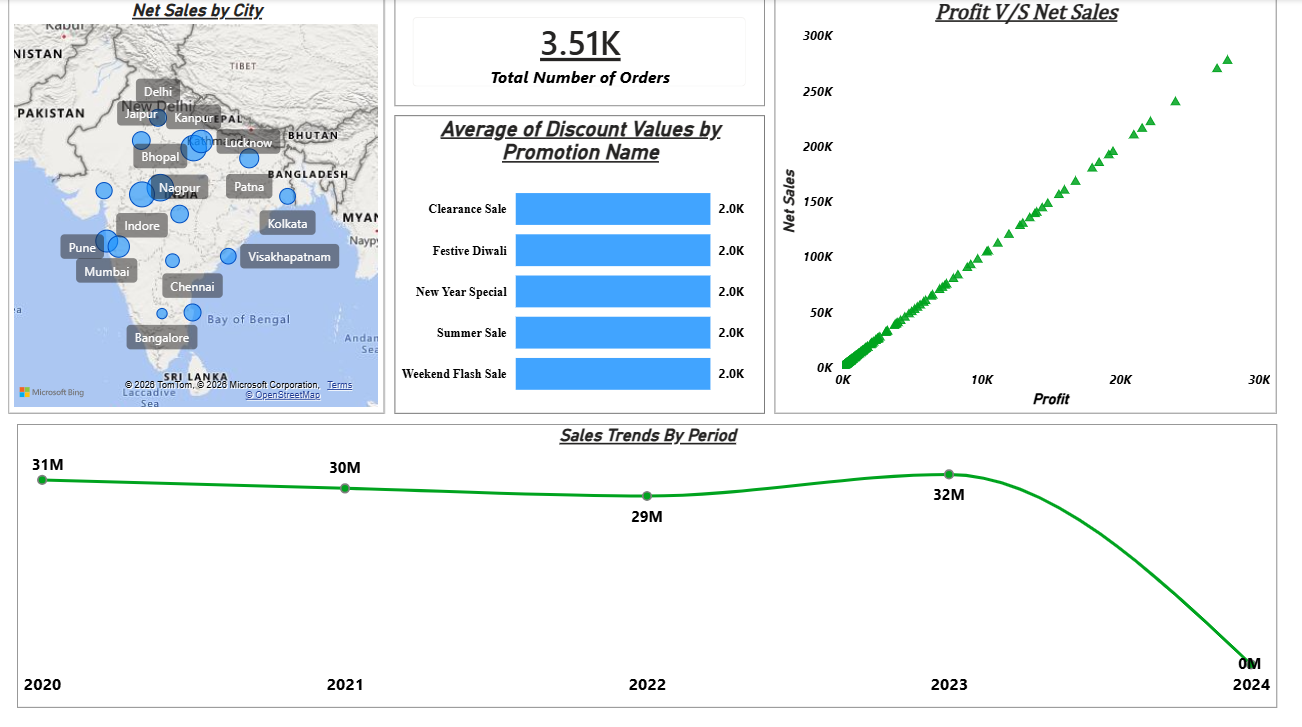

Layout of this report page (visuals, bound fields, positions):
{"tool":"powerbi","page":{"name":"OverView ","canvas":[1280,720],"ordinal":0},"visuals":[{"type":"lineChart","title":"Sales Trends By Period","fields":{"Y":["Sum(Fact table.Net Sales )"],"Category":["Fact table.Date (dd/mm/yyyy).Variation.Date Hierarchy.Year","Fact table.Date (dd/mm/yyyy).Variation.Date Hierarchy.Quarter","Fact table.Date (dd/mm/yyyy).Variation.Date Hierarchy.Month","Fact table.Date (dd/mm/yyyy).Variation.Date Hierarchy.Day"]},"box":[19.6,415.8,1232.6,277.6],"z":0},{"type":"scatterChart","title":"Profit V/S Net Sales ","fields":{"X":["Fact table.Profit"],"Y":["Fact table.Net Sales "]},"box":[761.1,0,491.1,405.6],"z":1000},{"type":"barChart","fields":{"Category":["Dim Promotion.Promotion Name"],"Y":["Avg(Fact table.Discount Values)"]},"box":[388.9,113.3,362.2,292.2],"z":2000},{"type":"map","fields":{"Category":["Dim Customers.City"],"Size":["Sum(Fact table.Net Sales )"]},"box":[11.1,0,367.8,405.6],"z":3000},{"type":"cardVisual","fields":{"Data":["CountNonNull(Fact table.Order Id)"]},"box":[388.9,0,362.2,104.4],"z":4000}]}

Visuals, with their boxes in screenshot pixels (x1, y1, x2, y2), scaled from the page's 1280x720 canvas onto the 1302x727 screenshot:
"Sales Trends By Period" lineChart: Rect(20, 420, 1274, 700)
"Profit V/S Net Sales " scatterChart: Rect(774, 0, 1274, 410)
barChart - Dim Promotion.Promotion Name x Avg(Fact table.Discount Values): Rect(396, 114, 764, 409)
map - Dim Customers.City x Sum(Fact table.Net Sales ): Rect(11, 0, 385, 410)
cardVisual - CountNonNull(Fact table.Order Id): Rect(396, 0, 764, 105)
